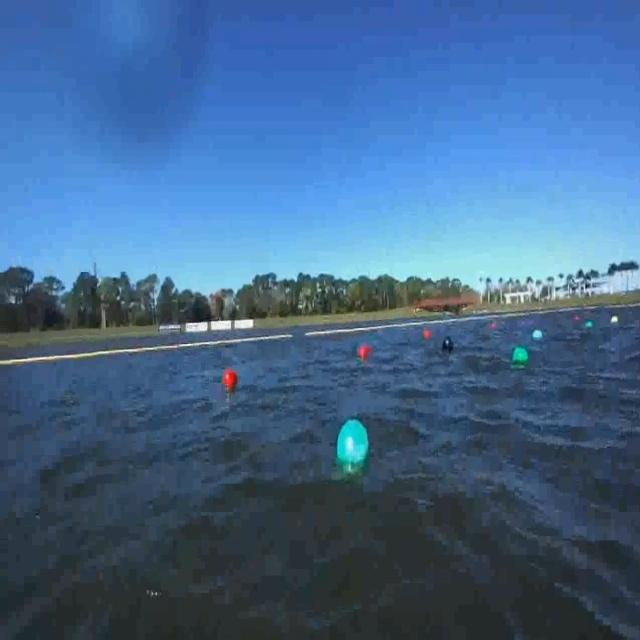black-buoy: (442, 337, 456, 353)
green-buoy: (337, 420, 370, 470), (511, 347, 527, 367)
red-buoy: (224, 368, 238, 387), (359, 345, 371, 359), (423, 328, 431, 338)
